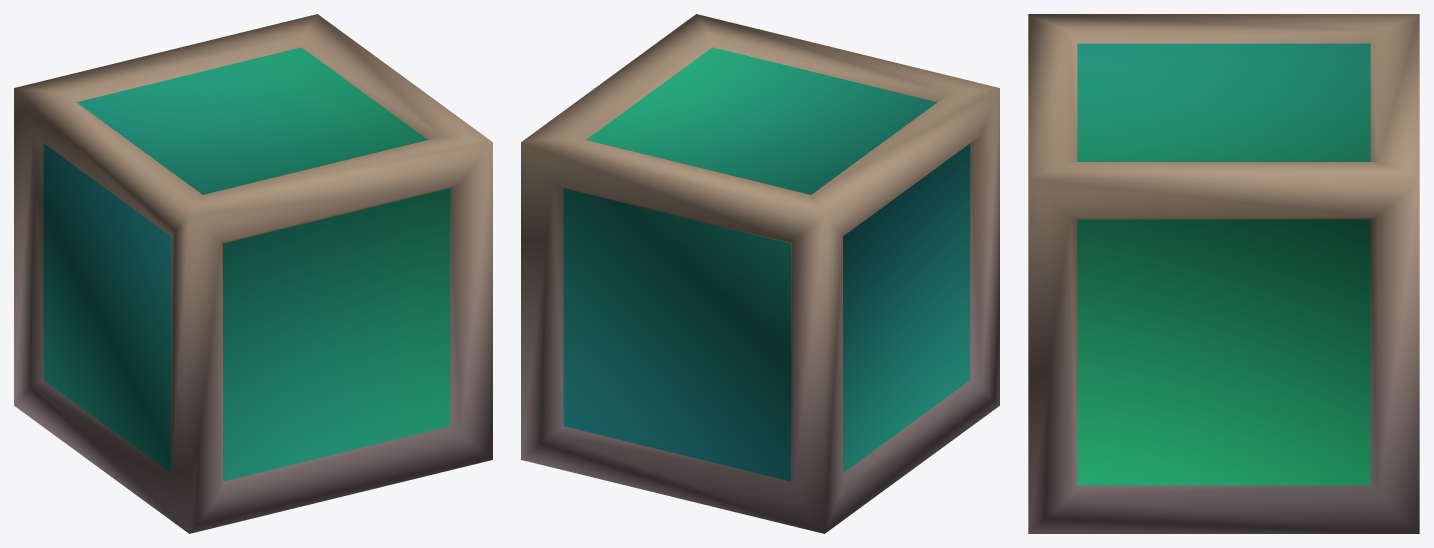
The model's file is Block_Green.fbx.
3 renders of one model, left to right at view 1: azimuth 30°, elevation 25°; view 2: azimuth 150°, elevation 25°; view 3: azimuth 270°, elevation 25°, orthographic. The views are drawn at different scales.
Parts seen in each view (by area): view 1: Block_Green; view 2: Block_Green; view 3: Block_Green.
Boxes of the visible parts, x1,y1,x2,y2 form: Block_Green: (14,14,492,533); Block_Green: (521,14,999,533); Block_Green: (1028,14,1419,533).
Bounding box in the file's own units: 200 × 200 × 200.
